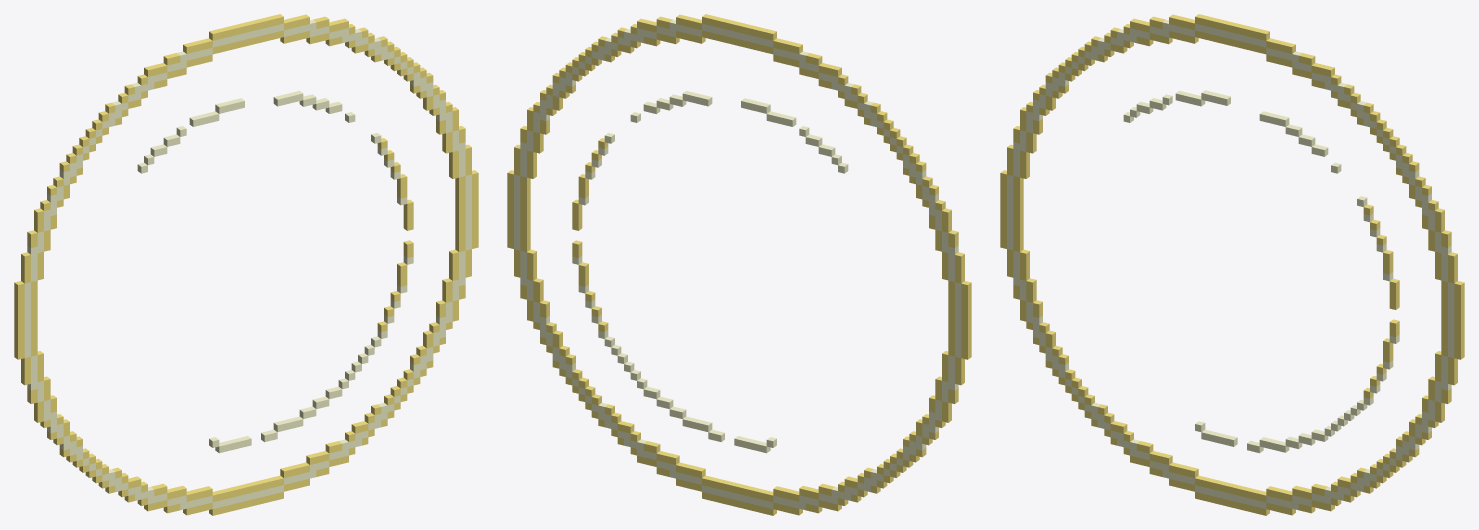
The model's file is Fight_726_2_08_fx.obj.
The picture shows the model from 3 angles, left to right: view 1: azimuth 30°, elevation 25°; view 2: azimuth 150°, elevation 25°; view 3: azimuth 330°, elevation 25°; orthographic projection.
Bounding box in the file's own units: 7.1 × 7.1 × 0.1.
Materials: 1 (1 with a texture image).
